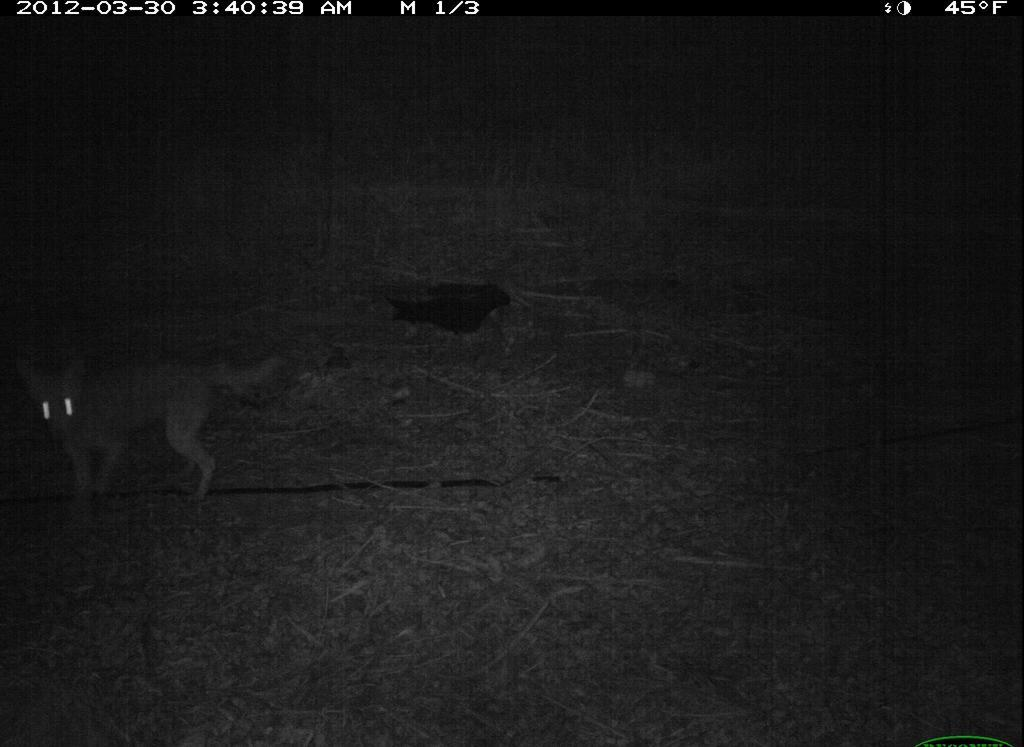coyote: (18, 331, 291, 511)
